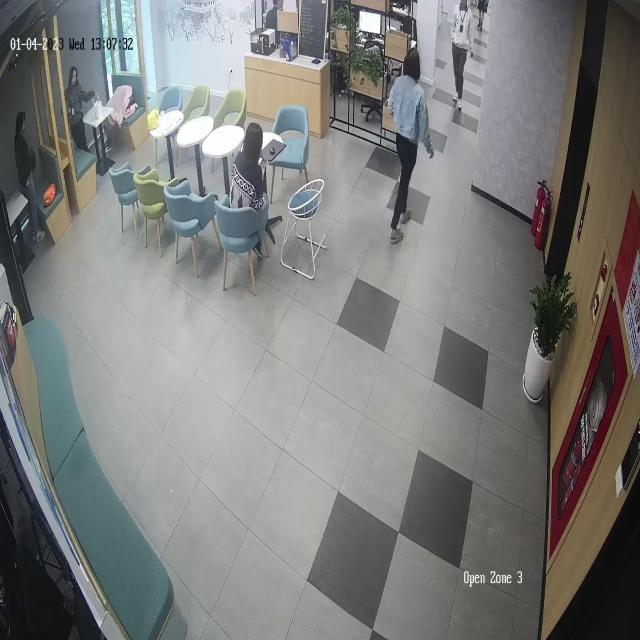person: (388, 50, 435, 243), (229, 121, 272, 256), (14, 111, 46, 243), (65, 66, 100, 155), (451, 0, 474, 111), (477, 0, 490, 30)
